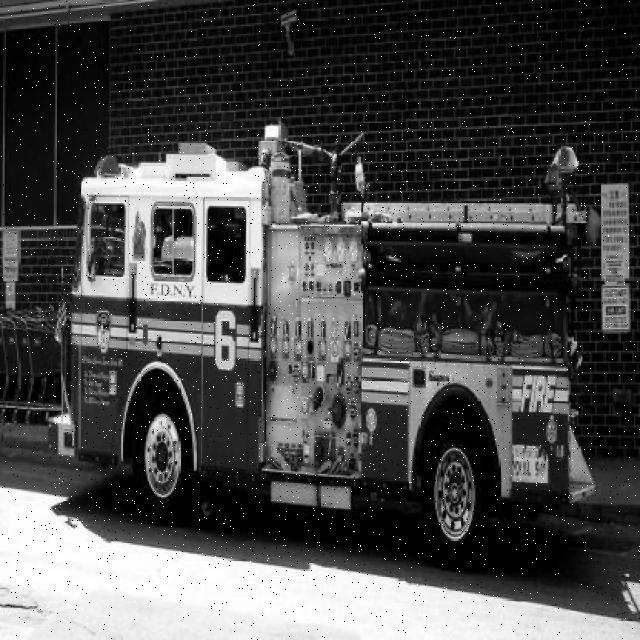Fire Truck: (46, 123, 596, 560)
